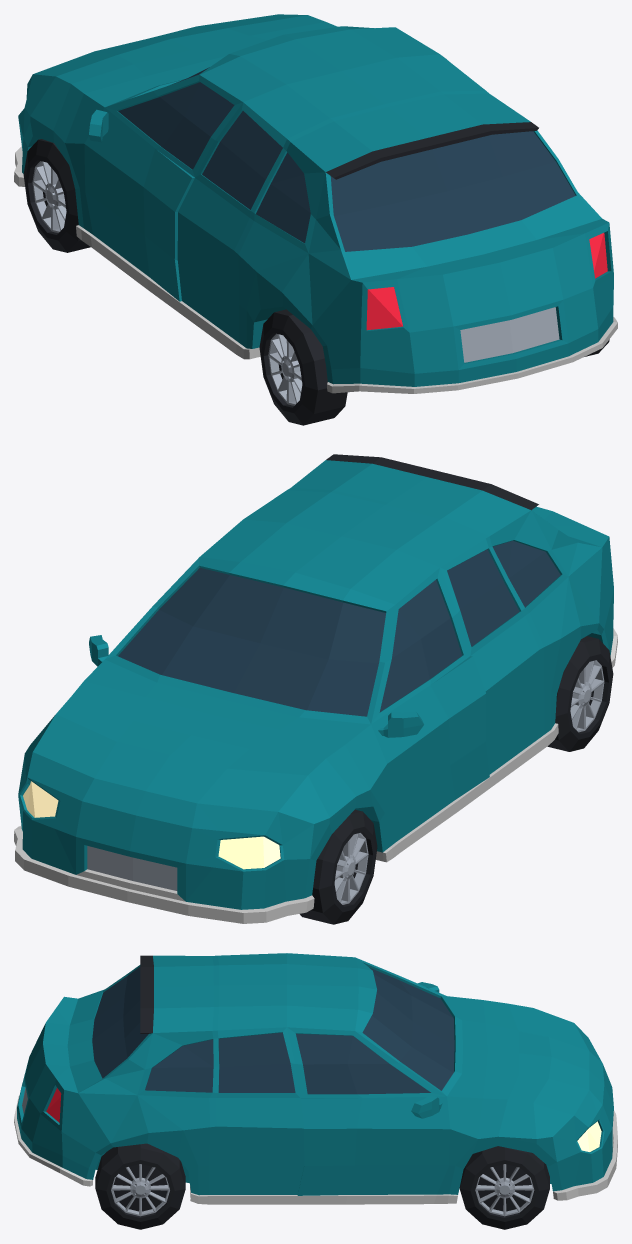
Rendered from hatch.glb.
3 renders of one model, top to bottom at view 1: azimuth 30°, elevation 25°; view 2: azimuth 150°, elevation 25°; view 3: azimuth 270°, elevation 25°, orthographic. The views are drawn at different scales.
Visible parts, largest first — view 1: NormalCar2_Cube.002 (×6), NormalCar2_BackWheels_Cylinder.003 (×2), NormalCar2_FrontLeftWheel_Cylinder.015 (×2); view 2: NormalCar2_Cube.002 (×6), NormalCar2_FrontLeftWheel_Cylinder.015 (×2), NormalCar2_BackWheels_Cylinder.003 (×2); view 3: NormalCar2_Cube.002 (×5), NormalCar2_BackWheels_Cylinder.003 (×2), NormalCar2_FrontRightWheel_Cylinder.016 (×2).
Boxes of the visible parts, x1=… form: NormalCar2_Cube.002 (×6): x1=14, y1=14, x2=617, y2=393; NormalCar2_BackWheels_Cylinder.003 (×2): x1=259, y1=309, x2=609, y2=425; NormalCar2_FrontLeftWheel_Cylinder.015 (×2): x1=23, y1=139, x2=90, y2=252; NormalCar2_Cube.002 (×6): x1=14, y1=454, x2=617, y2=923; NormalCar2_FrontLeftWheel_Cylinder.015 (×2): x1=300, y1=809, x2=377, y2=924; NormalCar2_BackWheels_Cylinder.003 (×2): x1=547, y1=636, x2=613, y2=751; NormalCar2_Cube.002 (×5): x1=14, y1=953, x2=617, y2=1204; NormalCar2_BackWheels_Cylinder.003 (×2): x1=95, y1=1143, x2=185, y2=1229; NormalCar2_FrontRightWheel_Cylinder.016 (×2): x1=459, y1=1146, x2=549, y2=1229.
Bounding box in the file's own units: 1.93 × 1.35 × 3.9.
